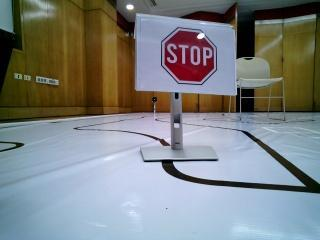stop: (143, 23, 226, 87)
